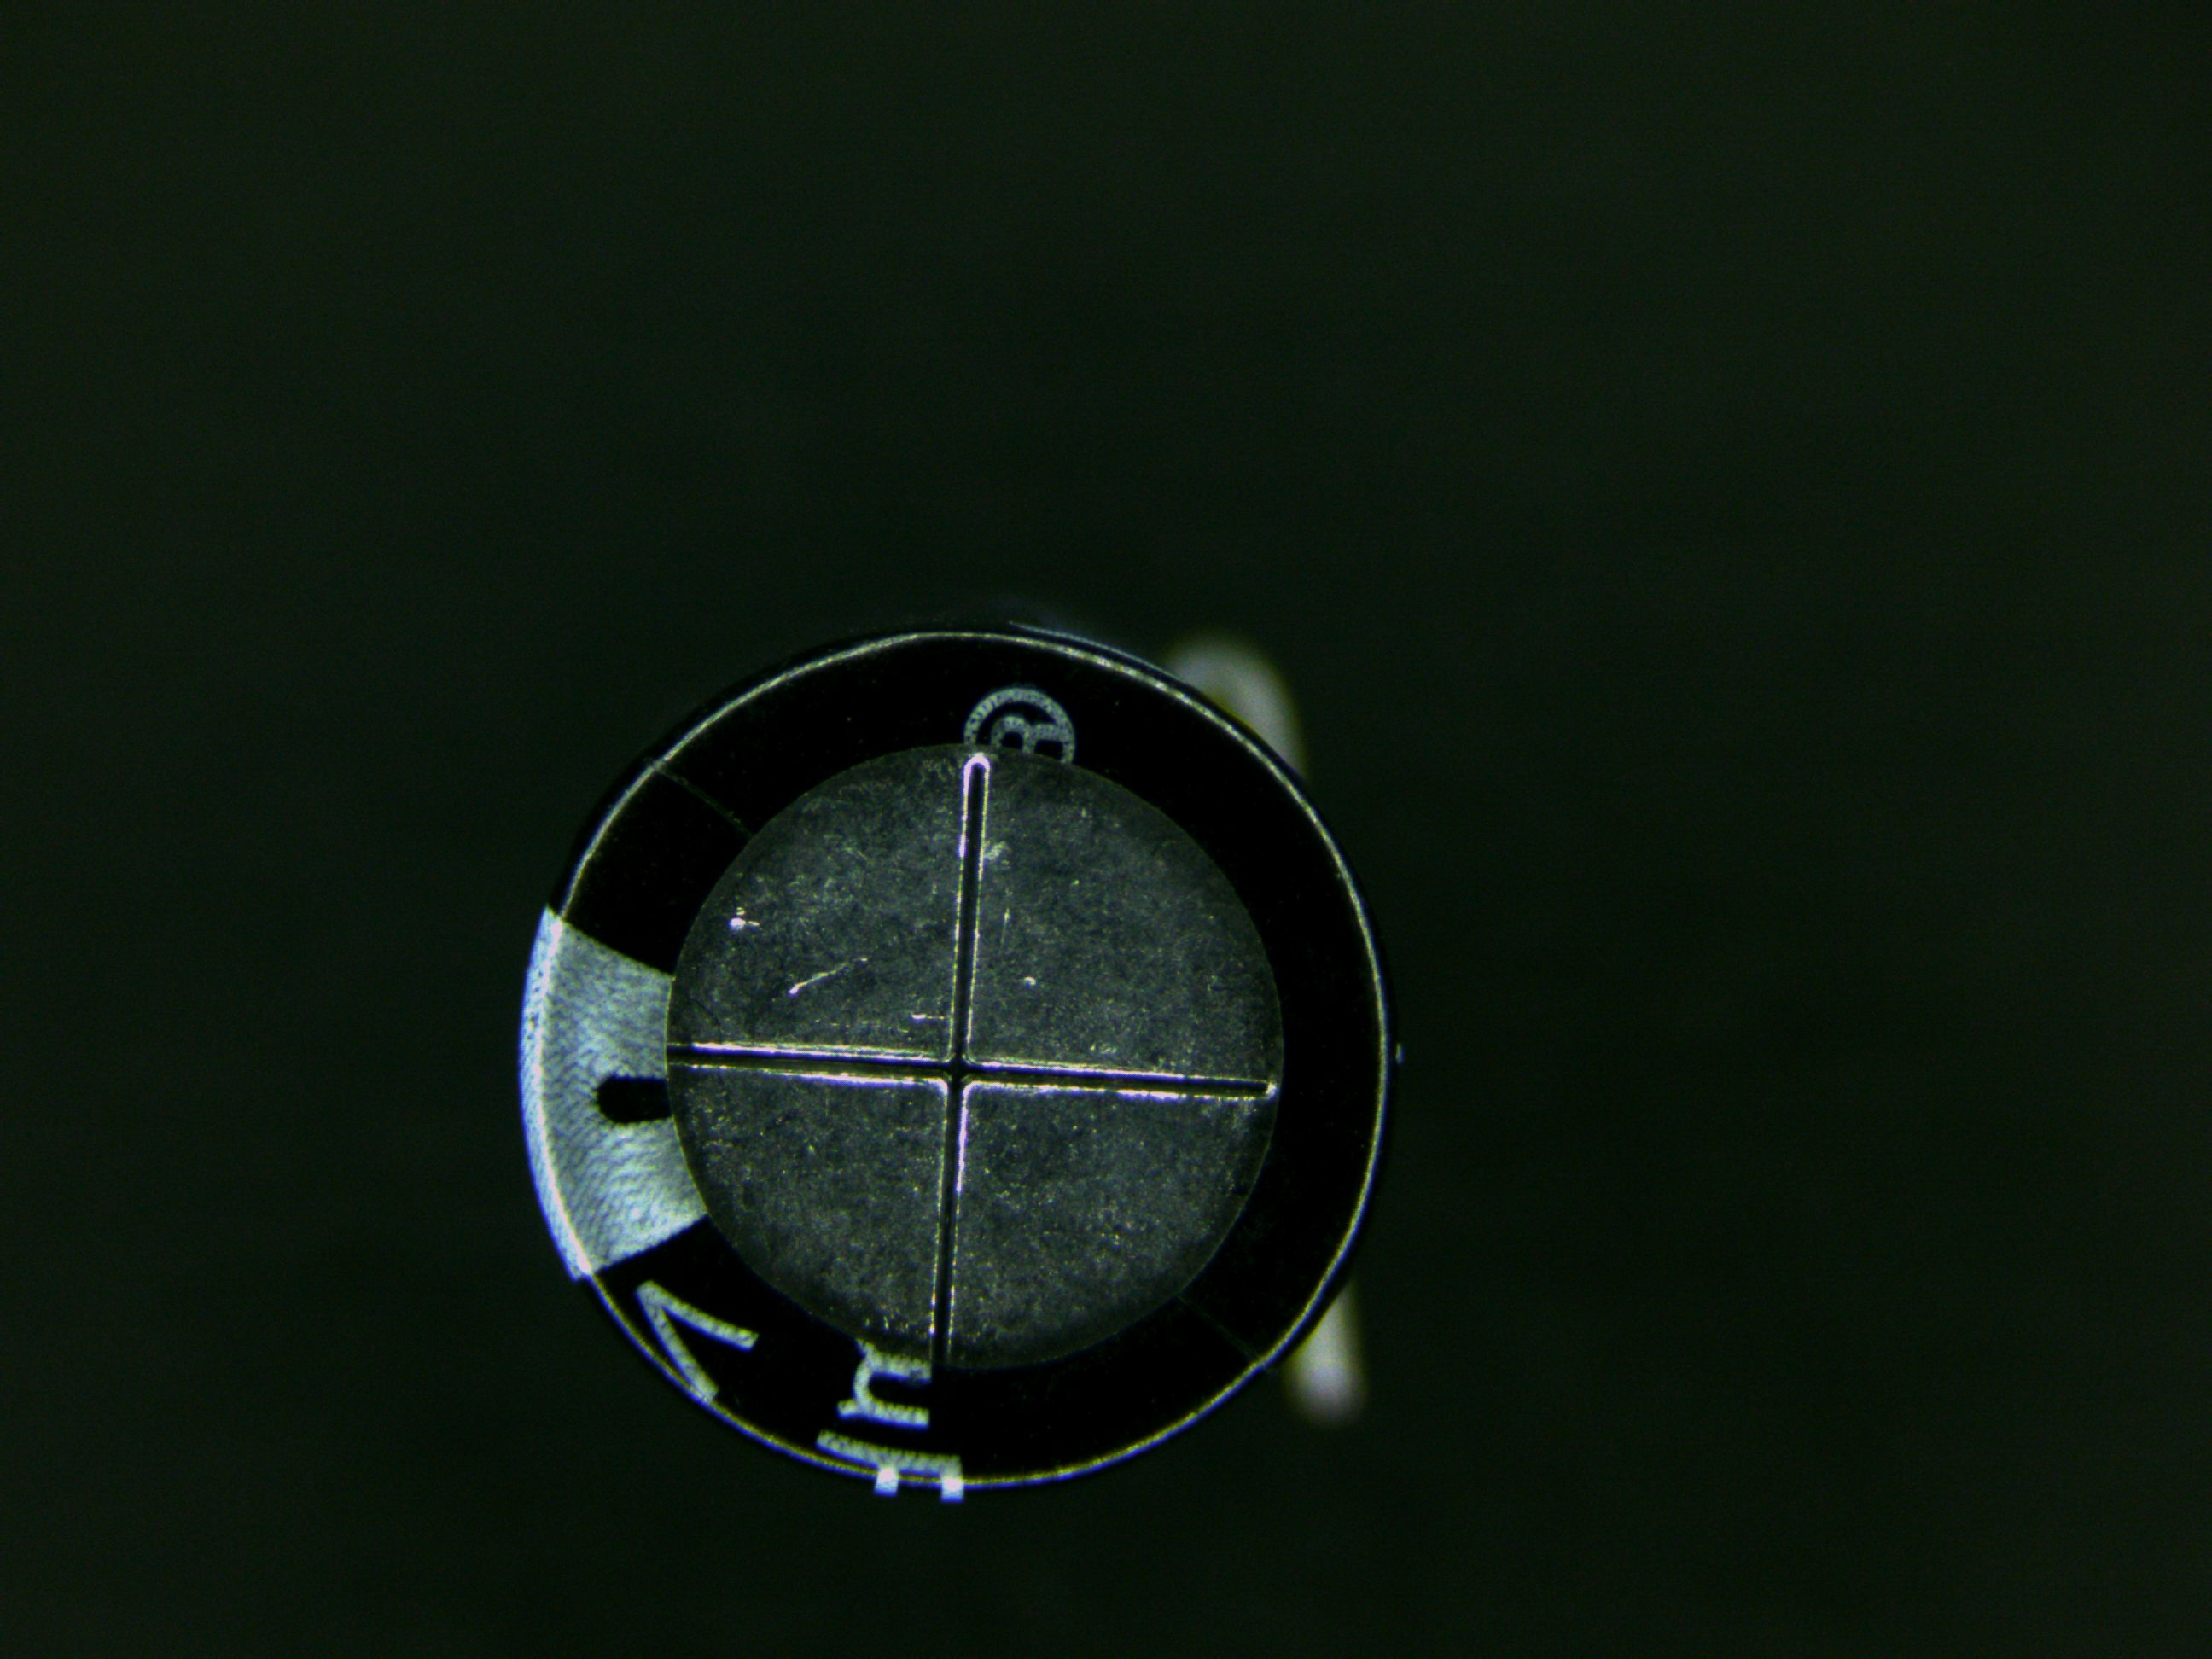c3: (512, 620, 1393, 1523)
